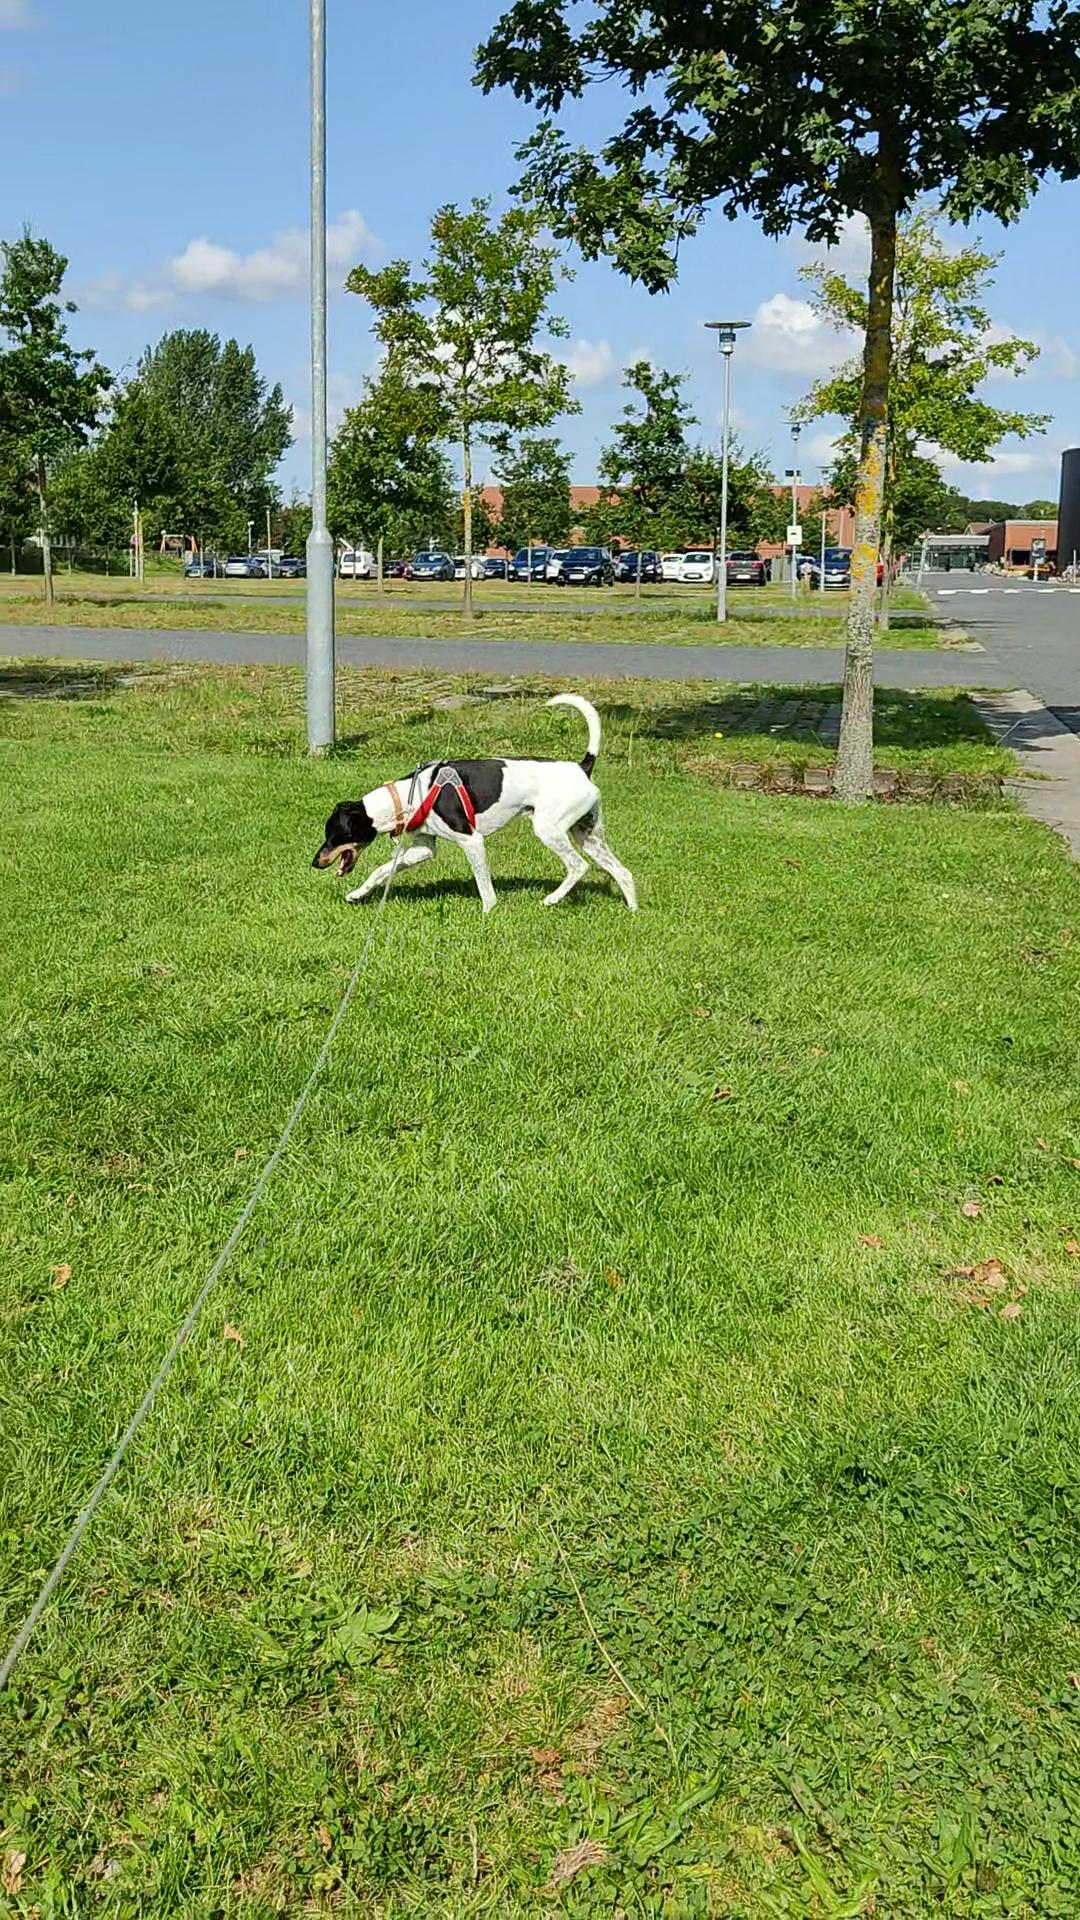Dog: (303, 687, 642, 914)
